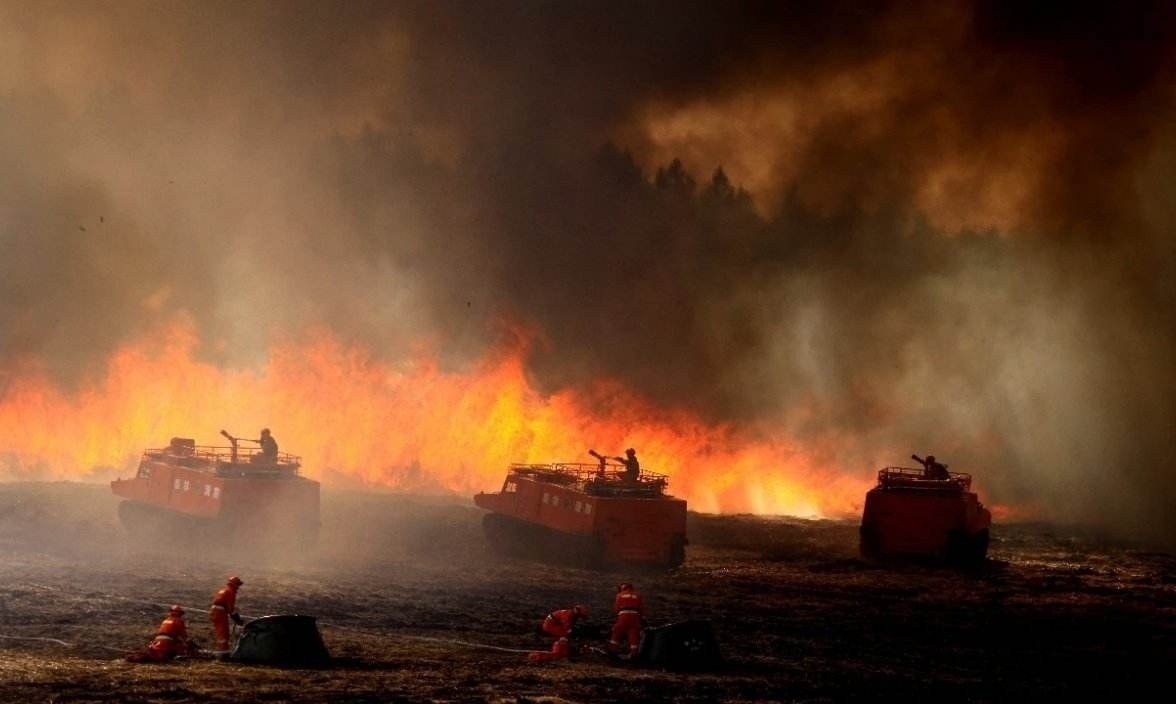fire: (0, 290, 915, 497)
